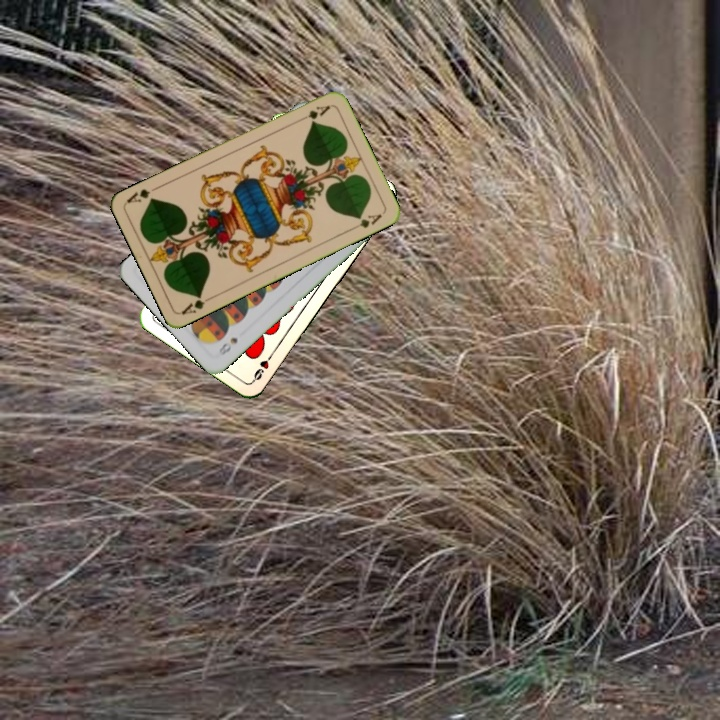GA: (178, 291, 216, 318), (294, 101, 333, 125)
H9: (248, 348, 276, 384)
S8: (215, 333, 240, 358)
